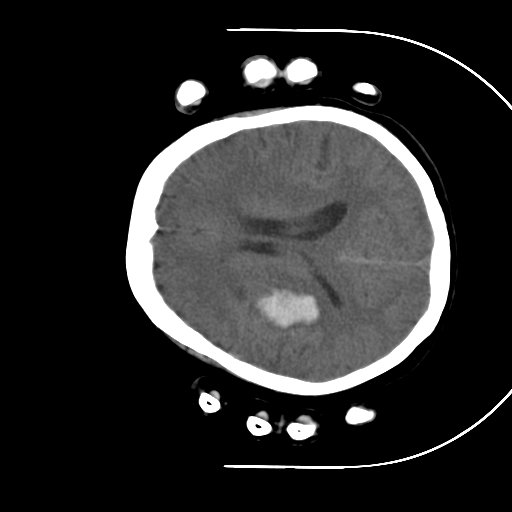a: (225, 257, 339, 345)
